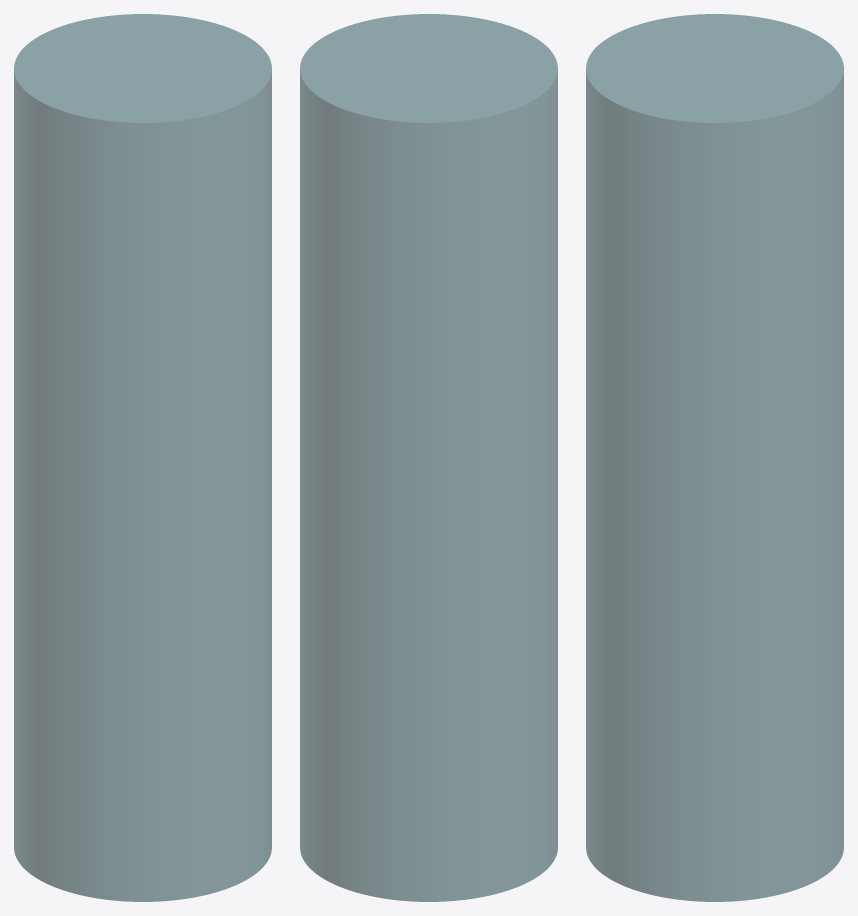
Rendered from Gate.gltf.
3 views of the same model, side by side, from view 1: azimuth 30°, elevation 25°; view 2: azimuth 150°, elevation 25°; view 3: azimuth 270°, elevation 25° (orthographic).
Visible parts, largest first — view 1: Cylinder; view 2: Cylinder; view 3: Cylinder.
Part boxes in pixels (x1,y1,x2,y2): Cylinder: (14, 14, 271, 901); Cylinder: (300, 14, 557, 901); Cylinder: (586, 14, 843, 901).
Bounding box in the file's own units: 2.4 × 8 × 2.4.
1 material, 1 textured.
